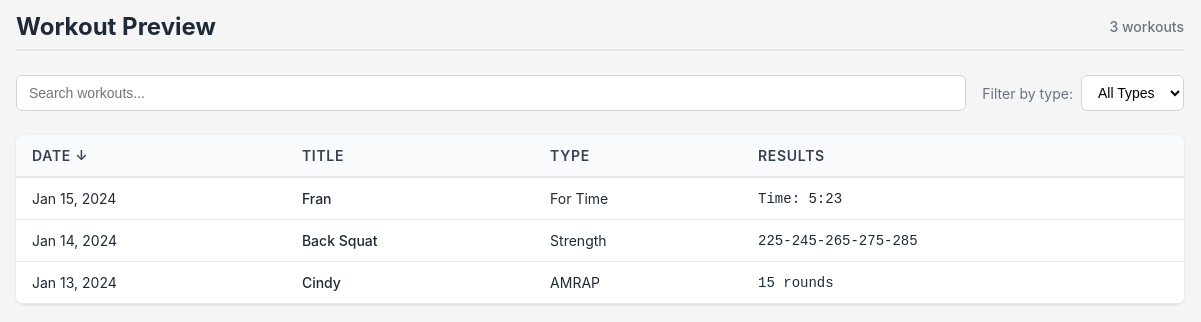
Test case: ExportPreview › Sorting › should sort by title alphabetically
Click the column heading "Title" at (323, 156), box [286, 135, 534, 177]
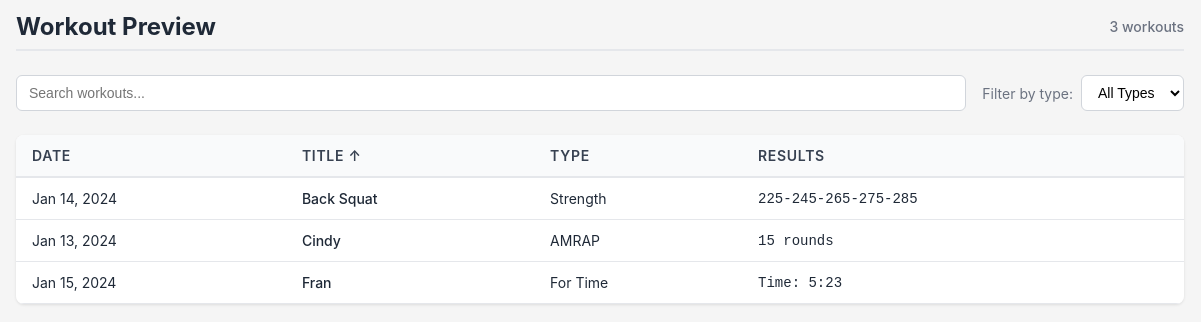
Expected: the text "Back Squat" is shown, [286, 177, 534, 220]
